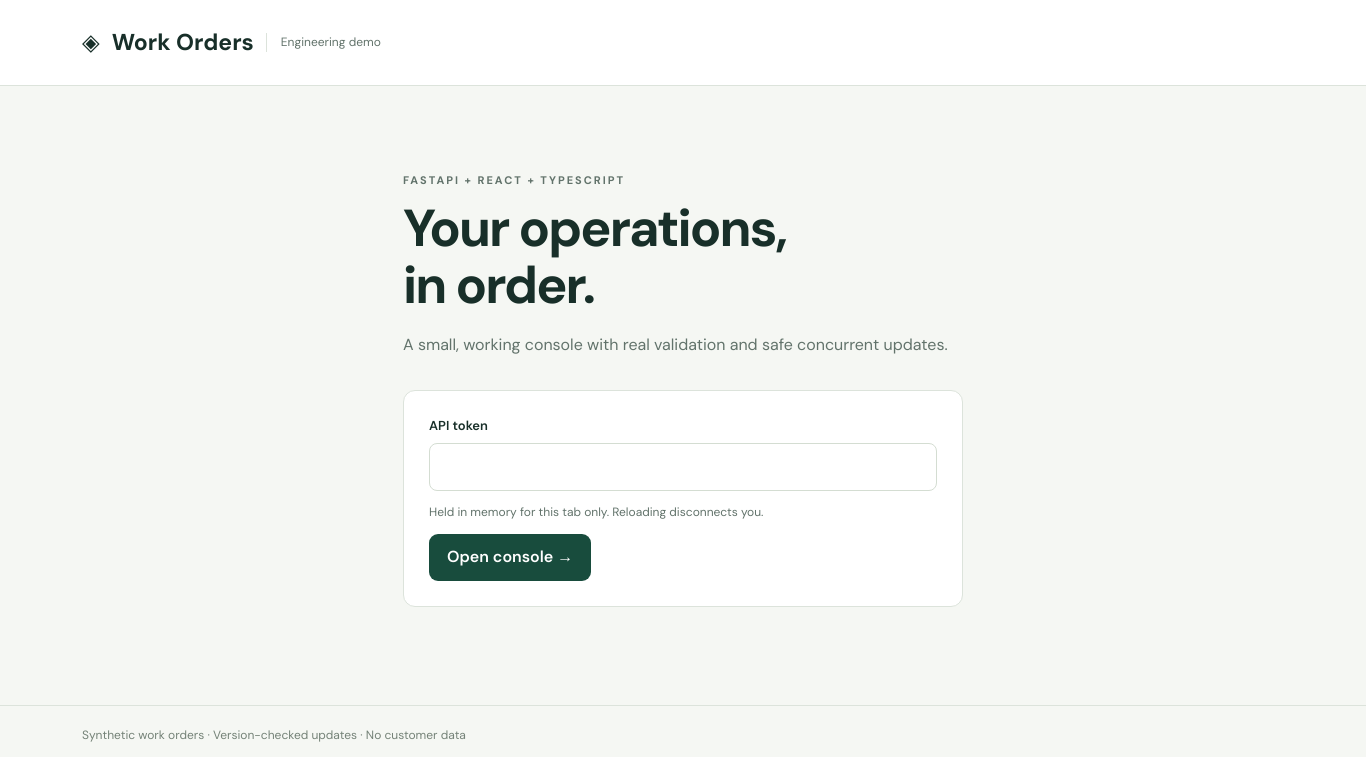
Test case: uncertain create failure retains input and never blindly retries
Step 1. Type "test-only-token" into the password field labelled "API token" → (683, 467), box [429, 443, 937, 492]
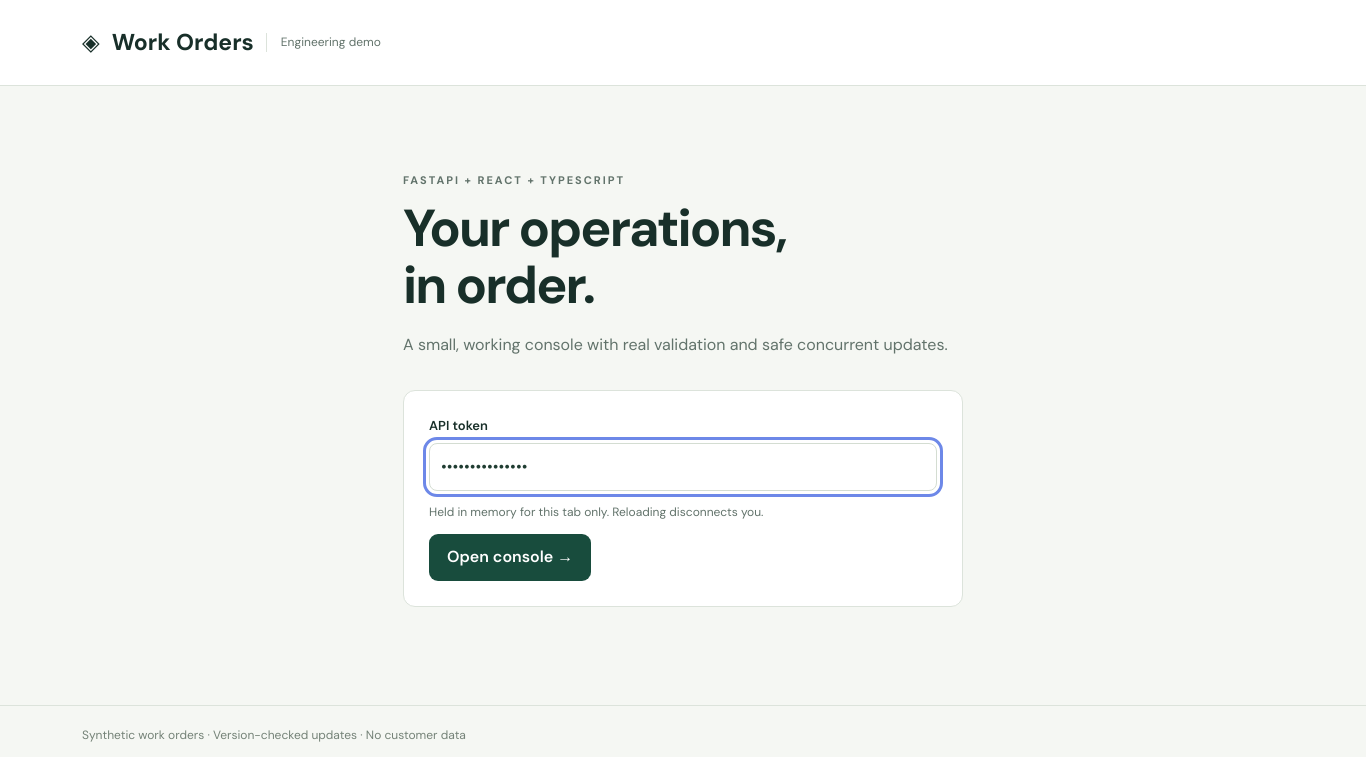
Step 2. Click the button "Open console →" → (510, 558), box [429, 534, 591, 581]
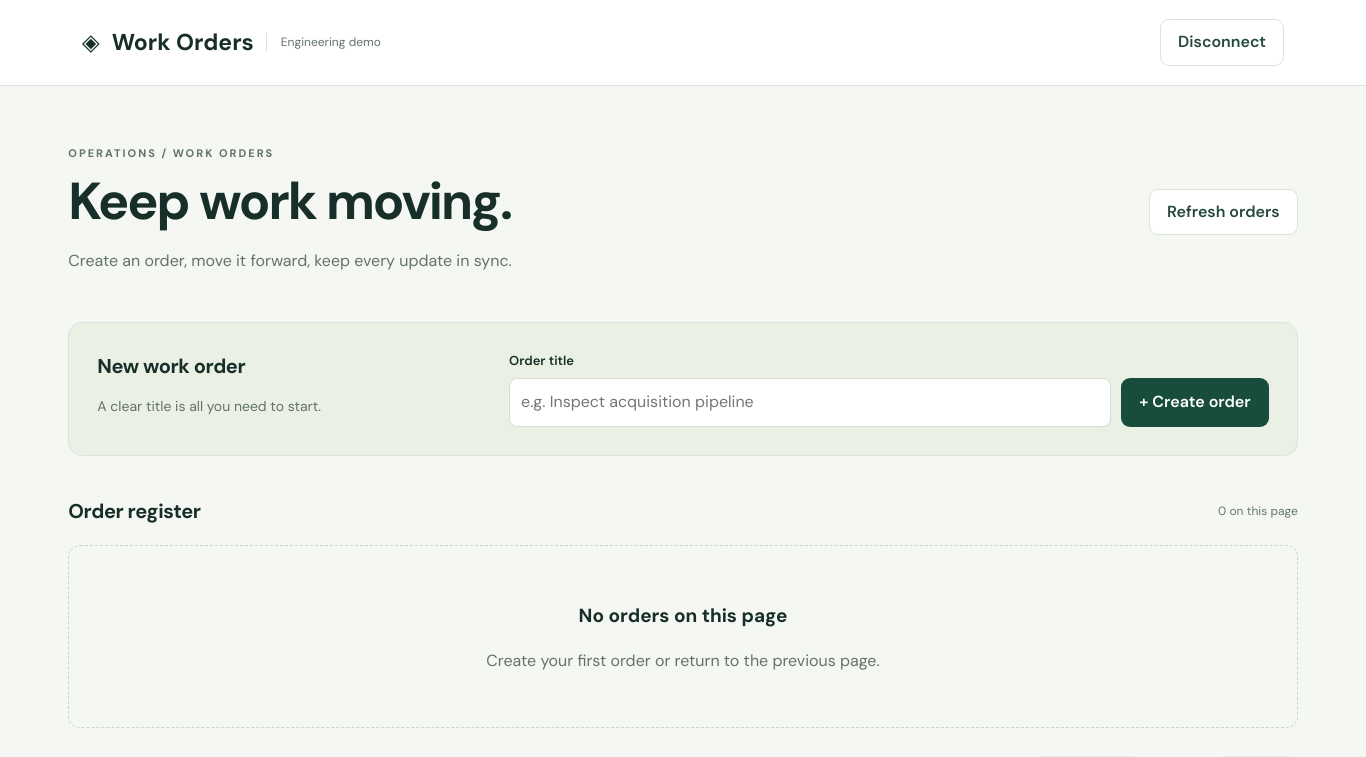
Expected: the heading "Order register" is shown, [68, 496, 201, 527]
Step 3. Type "Keep my input" into the field labelled "Order title" → (810, 402), box [509, 378, 1111, 427]
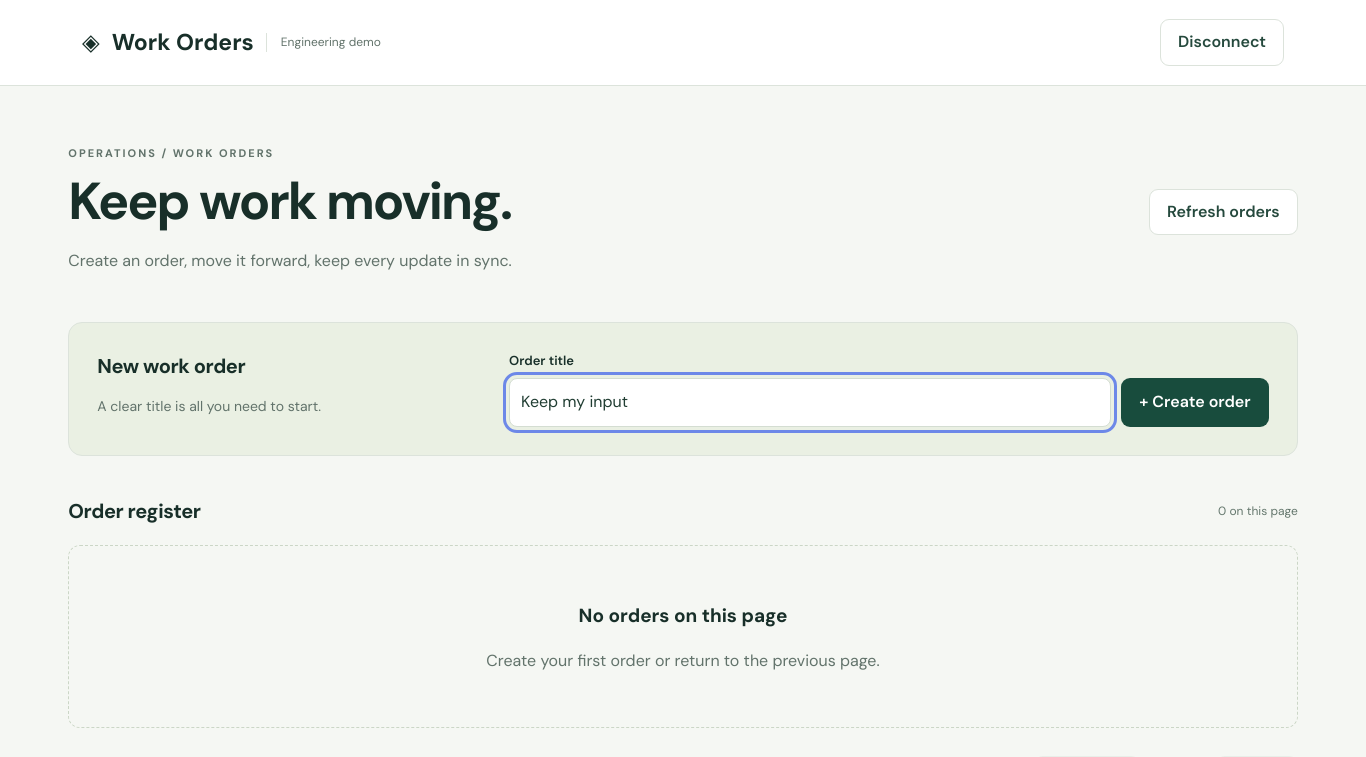
Step 4. Click the button "+ Create order" → (1195, 402), box [1121, 378, 1269, 427]
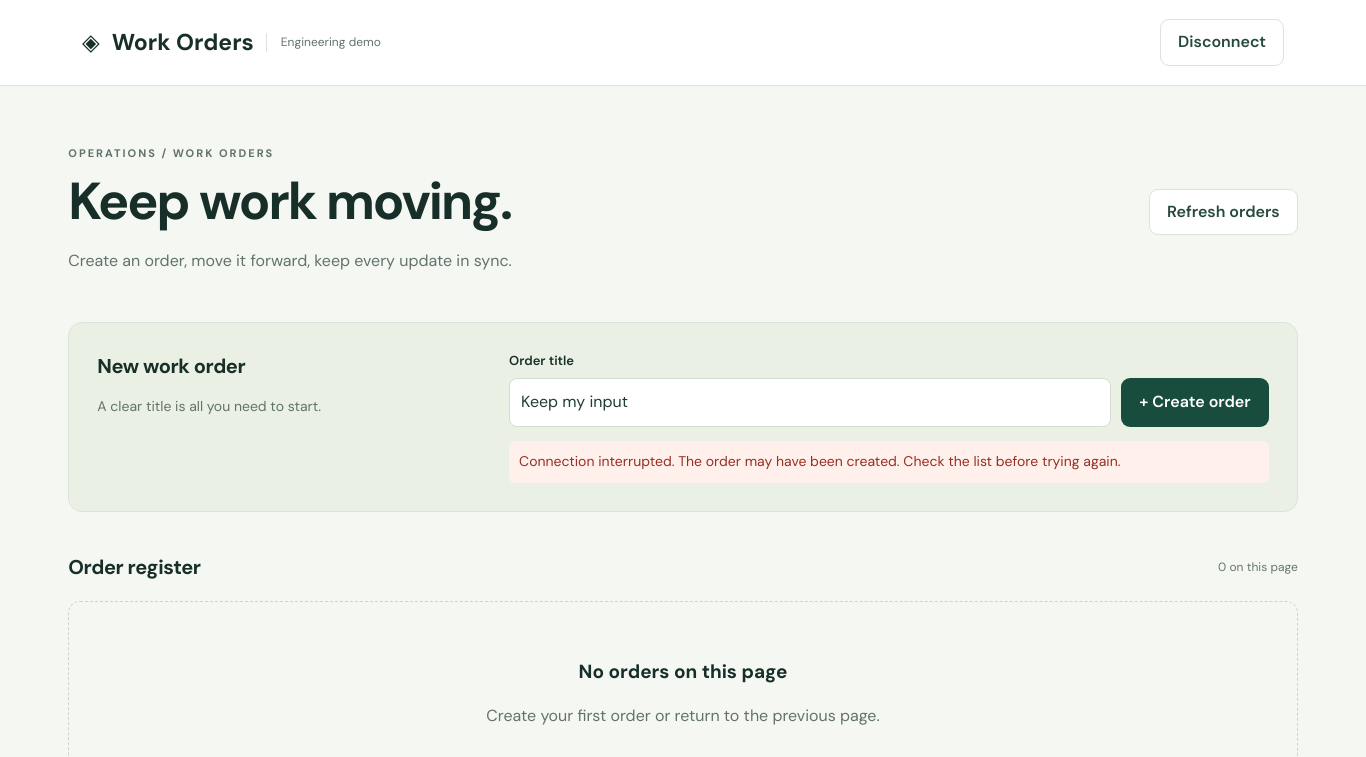
Expected: the message is shown, [509, 441, 1269, 483]
Expected: the message shows "may have been created", [519, 452, 1120, 470]
